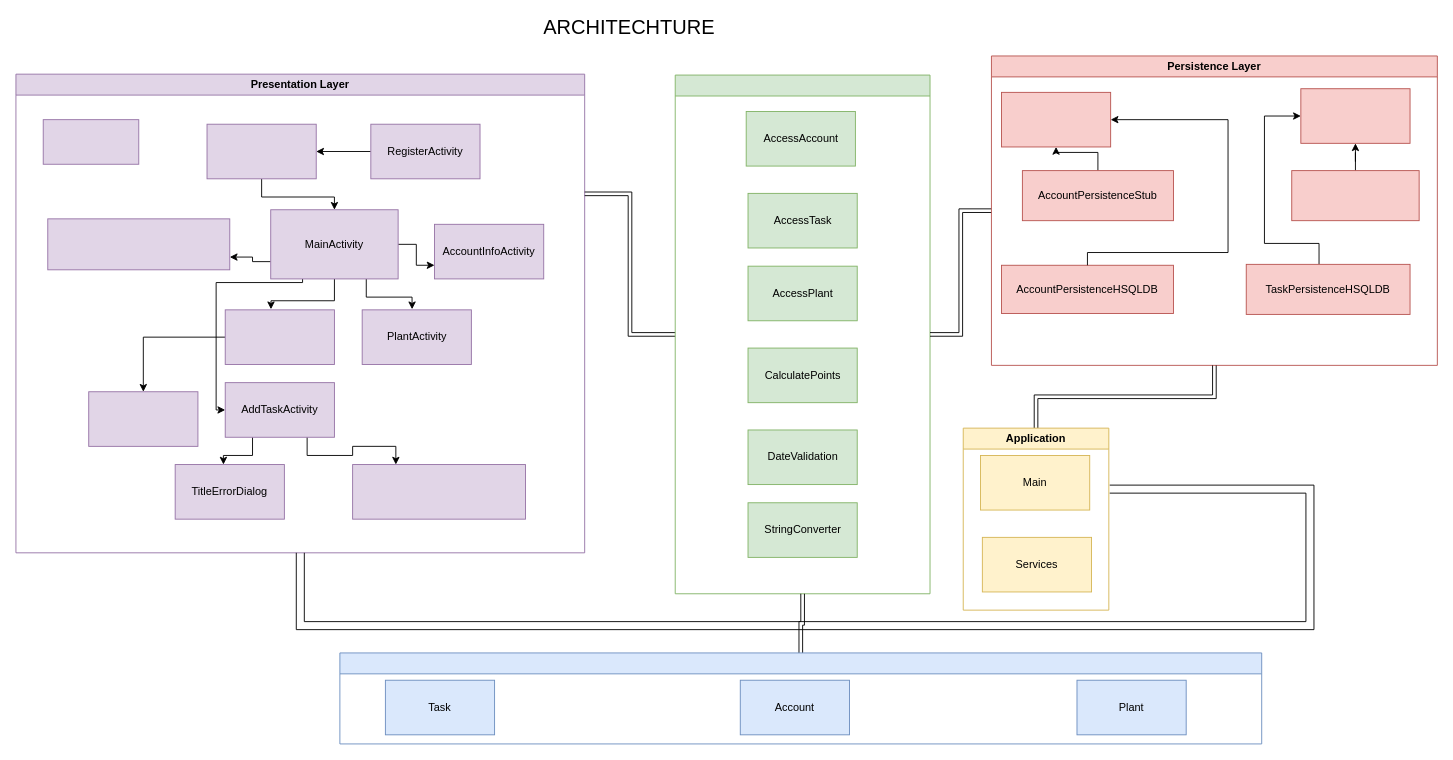
Image size: 1453x760. Some labels were removed from this diagram. Here are the shapes that lost their labels. From the top down, the box of each, then its label:
(1001, 91, 1111, 147): AccountPersistence
(1300, 88, 1410, 143): TaskPersistence
(42, 119, 139, 164): Messages
(206, 123, 316, 179): LoginActivity
(1291, 170, 1419, 221): TaskPersistenceStub
(47, 218, 230, 270): ShowCompletedTaskActivity
(224, 309, 334, 364): ShowTaskActivity
(674, 74, 930, 594): Business Layer
(88, 391, 198, 446): UpdateTaskActivity
(352, 464, 526, 519): DateErrorDialogActivity
(339, 652, 1262, 744): Domain Objects
